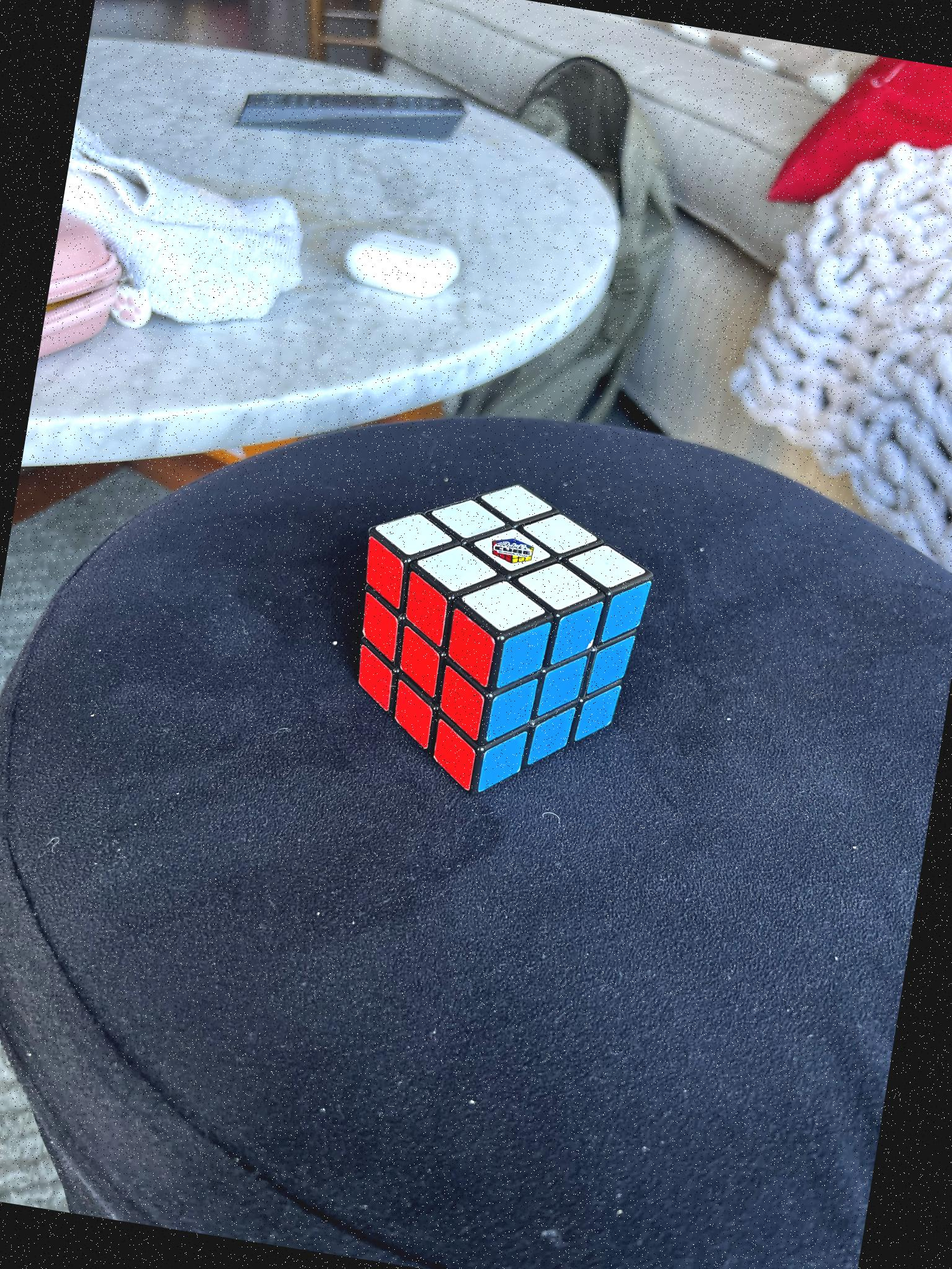rubiks_cube: (358, 485, 650, 791)
